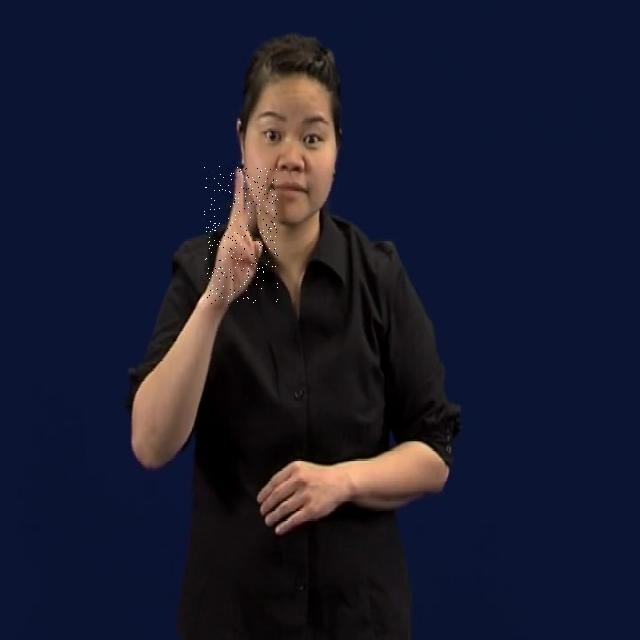vegetables: (204, 166, 278, 306)
